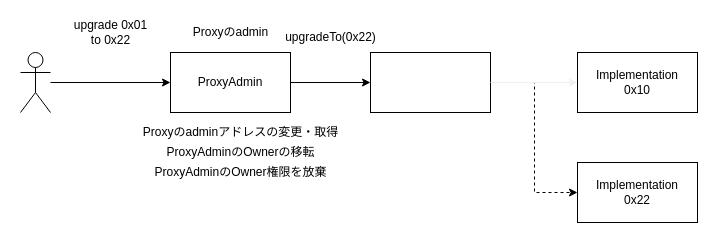
This 715x240 diagram has some shape labels left out. Here are the shapes that lost their labels. From the top down, the centre of each, then its label:
the point at 35,82: DAO または Owner
the point at 430,82: Proxy 0x01
